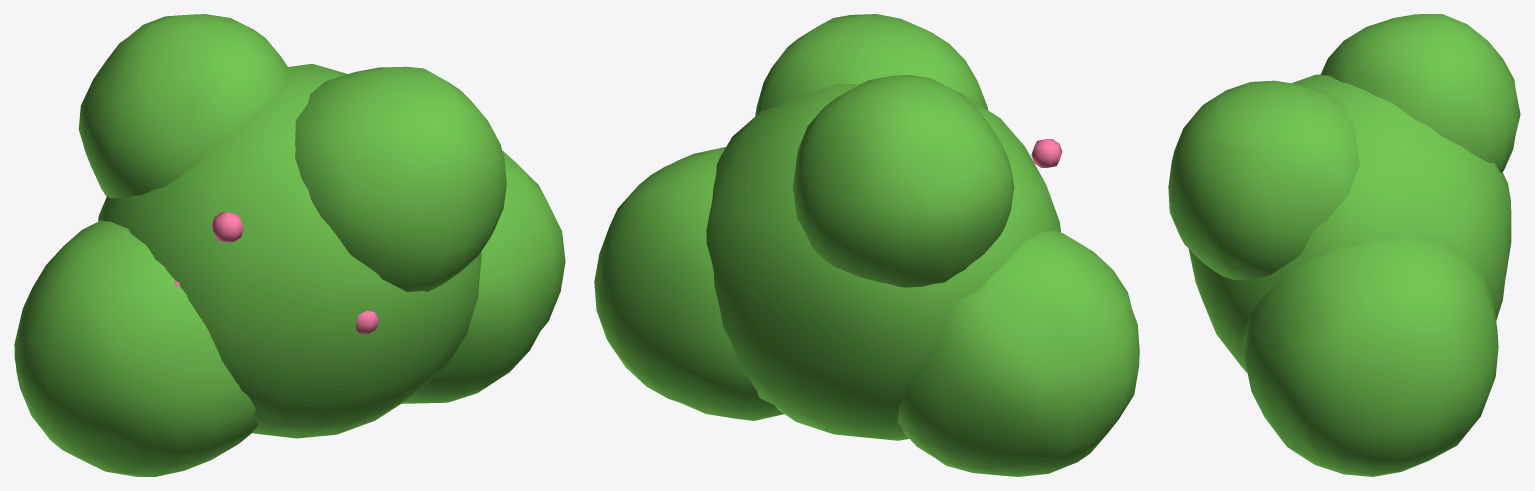
The model's file is bush.glb.
The picture shows the model from 3 angles, left to right: view 1: azimuth 30°, elevation 25°; view 2: azimuth 150°, elevation 25°; view 3: azimuth 270°, elevation 25°; orthographic projection. The views are drawn at different scales.
Parts seen in each view (by area): view 1: bush; view 2: bush; view 3: bush.
Part boxes in pixels (<box>): bush: <box>14,14,565,476</box>; bush: <box>594,14,1139,476</box>; bush: <box>1168,14,1520,476</box>.
Size of the model in its own units: 1.27 by 0.9203 by 0.8224.
